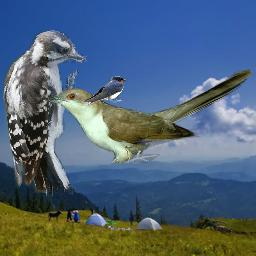Cuckoo: (45, 68, 252, 163)
Swallow: (78, 76, 127, 110)
Woodpecker: (3, 30, 89, 197)
